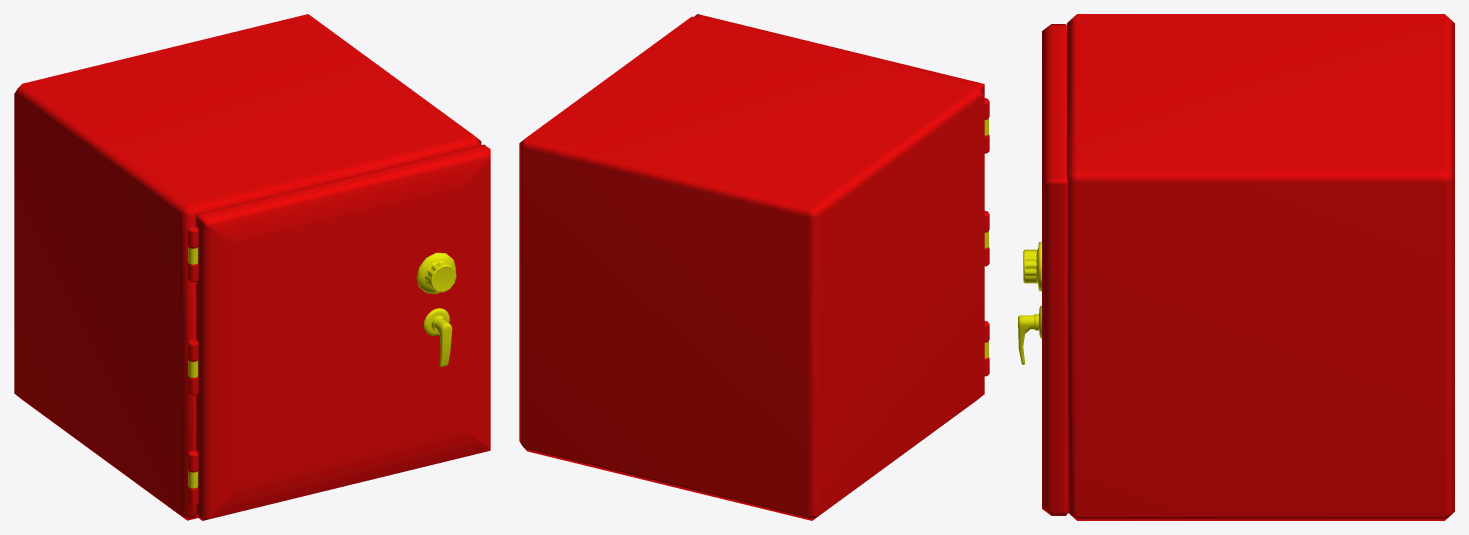
Rendered from safes_grp.fbx.
3 renders of one model, left to right at view 1: azimuth 30°, elevation 25°; view 2: azimuth 150°, elevation 25°; view 3: azimuth 270°, elevation 25°, orthographic. The views are drawn at different scales.
Parts seen in each view (by area): view 1: safe_18, safe_door_18; view 2: safe_18, safe_door_18; view 3: safe_18, safe_door_18.
Boxes of the visible parts, <box> form: safe_18: <box>14,14,481,520</box>; safe_door_18: <box>187,144,490,520</box>; safe_18: <box>519,16,984,520</box>; safe_door_18: <box>694,14,989,376</box>; safe_18: <box>1067,14,1454,520</box>; safe_door_18: <box>1018,24,1068,515</box>.
Size of the model in its own units: 50 by 50 by 56.3.
